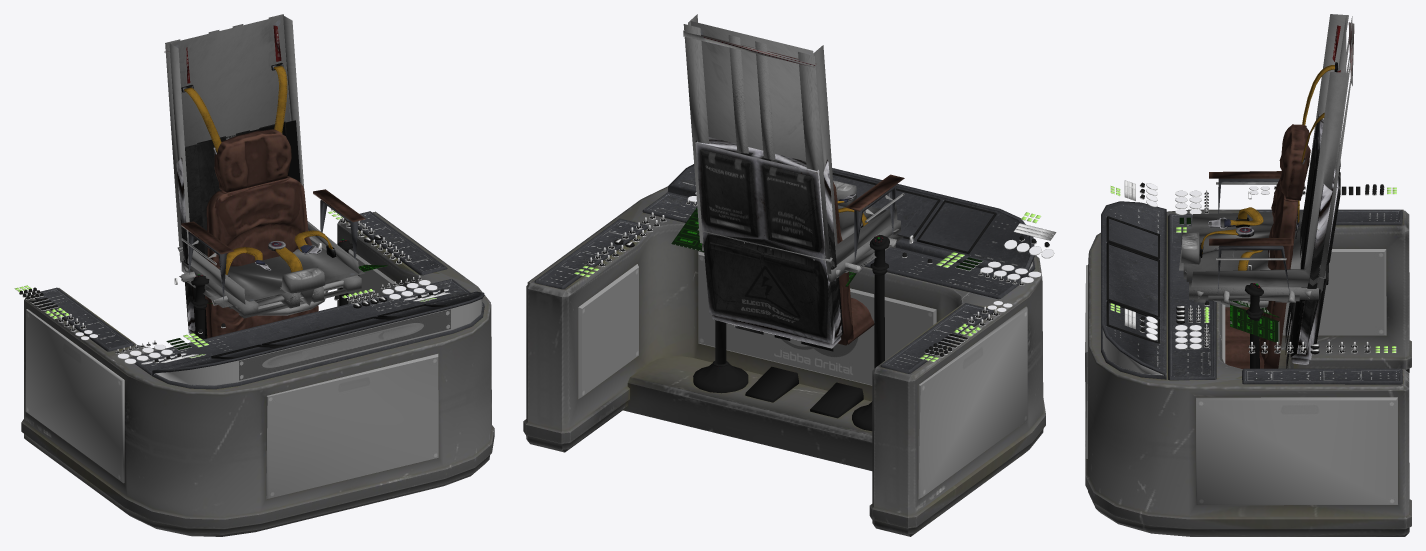
File: SM_Int_Corvette_Bridge_Console.fbx
The picture shows the model from 3 angles, left to right: view 1: azimuth 30°, elevation 25°; view 2: azimuth 150°, elevation 25°; view 3: azimuth 270°, elevation 25°; orthographic projection. The views are drawn at different scales.
Visible parts, largest first — view 1: MainControlPanel, ChairMain, LeatherPadding+BackPart, ControlPanelExtras, ChairMain.001; view 2: MainControlPanel, LeatherPadding+BackPart, ChairMain, ControlPanelExtras, CockpitScreens; view 3: MainControlPanel, ChairMain, LeatherPadding+BackPart, ControlPanelExtras, ChairMain.001, CockpitScreens.
Boxes of the visible parts, bbox=[...] form: MainControlPanel: bbox=[21, 211, 494, 536]; ChairMain: bbox=[164, 14, 366, 318]; LeatherPadding+BackPart: bbox=[176, 120, 318, 339]; ControlPanelExtras: bbox=[14, 211, 450, 364]; ChairMain.001: bbox=[181, 63, 336, 276]; MainControlPanel: bbox=[523, 164, 1045, 536]; LeatherPadding+BackPart: bbox=[695, 137, 874, 351]; ChairMain: bbox=[683, 14, 904, 281]; ControlPanelExtras: bbox=[574, 192, 1056, 362]; CockpitScreens: bbox=[671, 207, 856, 286]; MainControlPanel: bbox=[1085, 201, 1411, 536]; ChairMain: bbox=[1179, 14, 1354, 307]; LeatherPadding+BackPart: bbox=[1225, 113, 1340, 369]; ControlPanelExtras: bbox=[1110, 180, 1396, 354]; ChairMain.001: bbox=[1200, 62, 1337, 270]; CockpitScreens: bbox=[1230, 300, 1279, 343].
Bounding box in the file's own units: 199 × 146 × 201.
17 materials, 10 textured.
